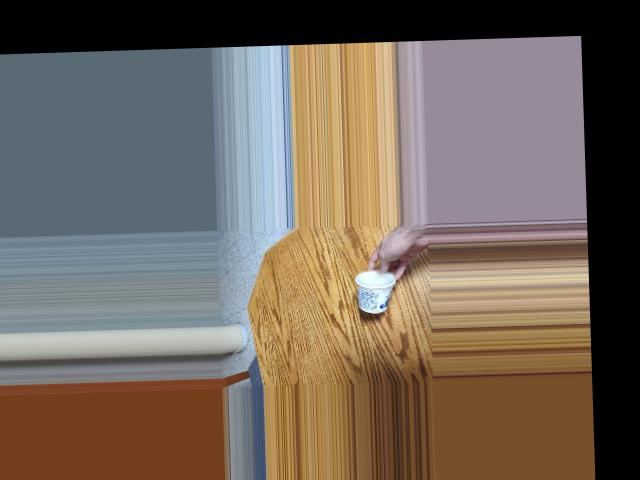cotage: (350, 263, 397, 308)
